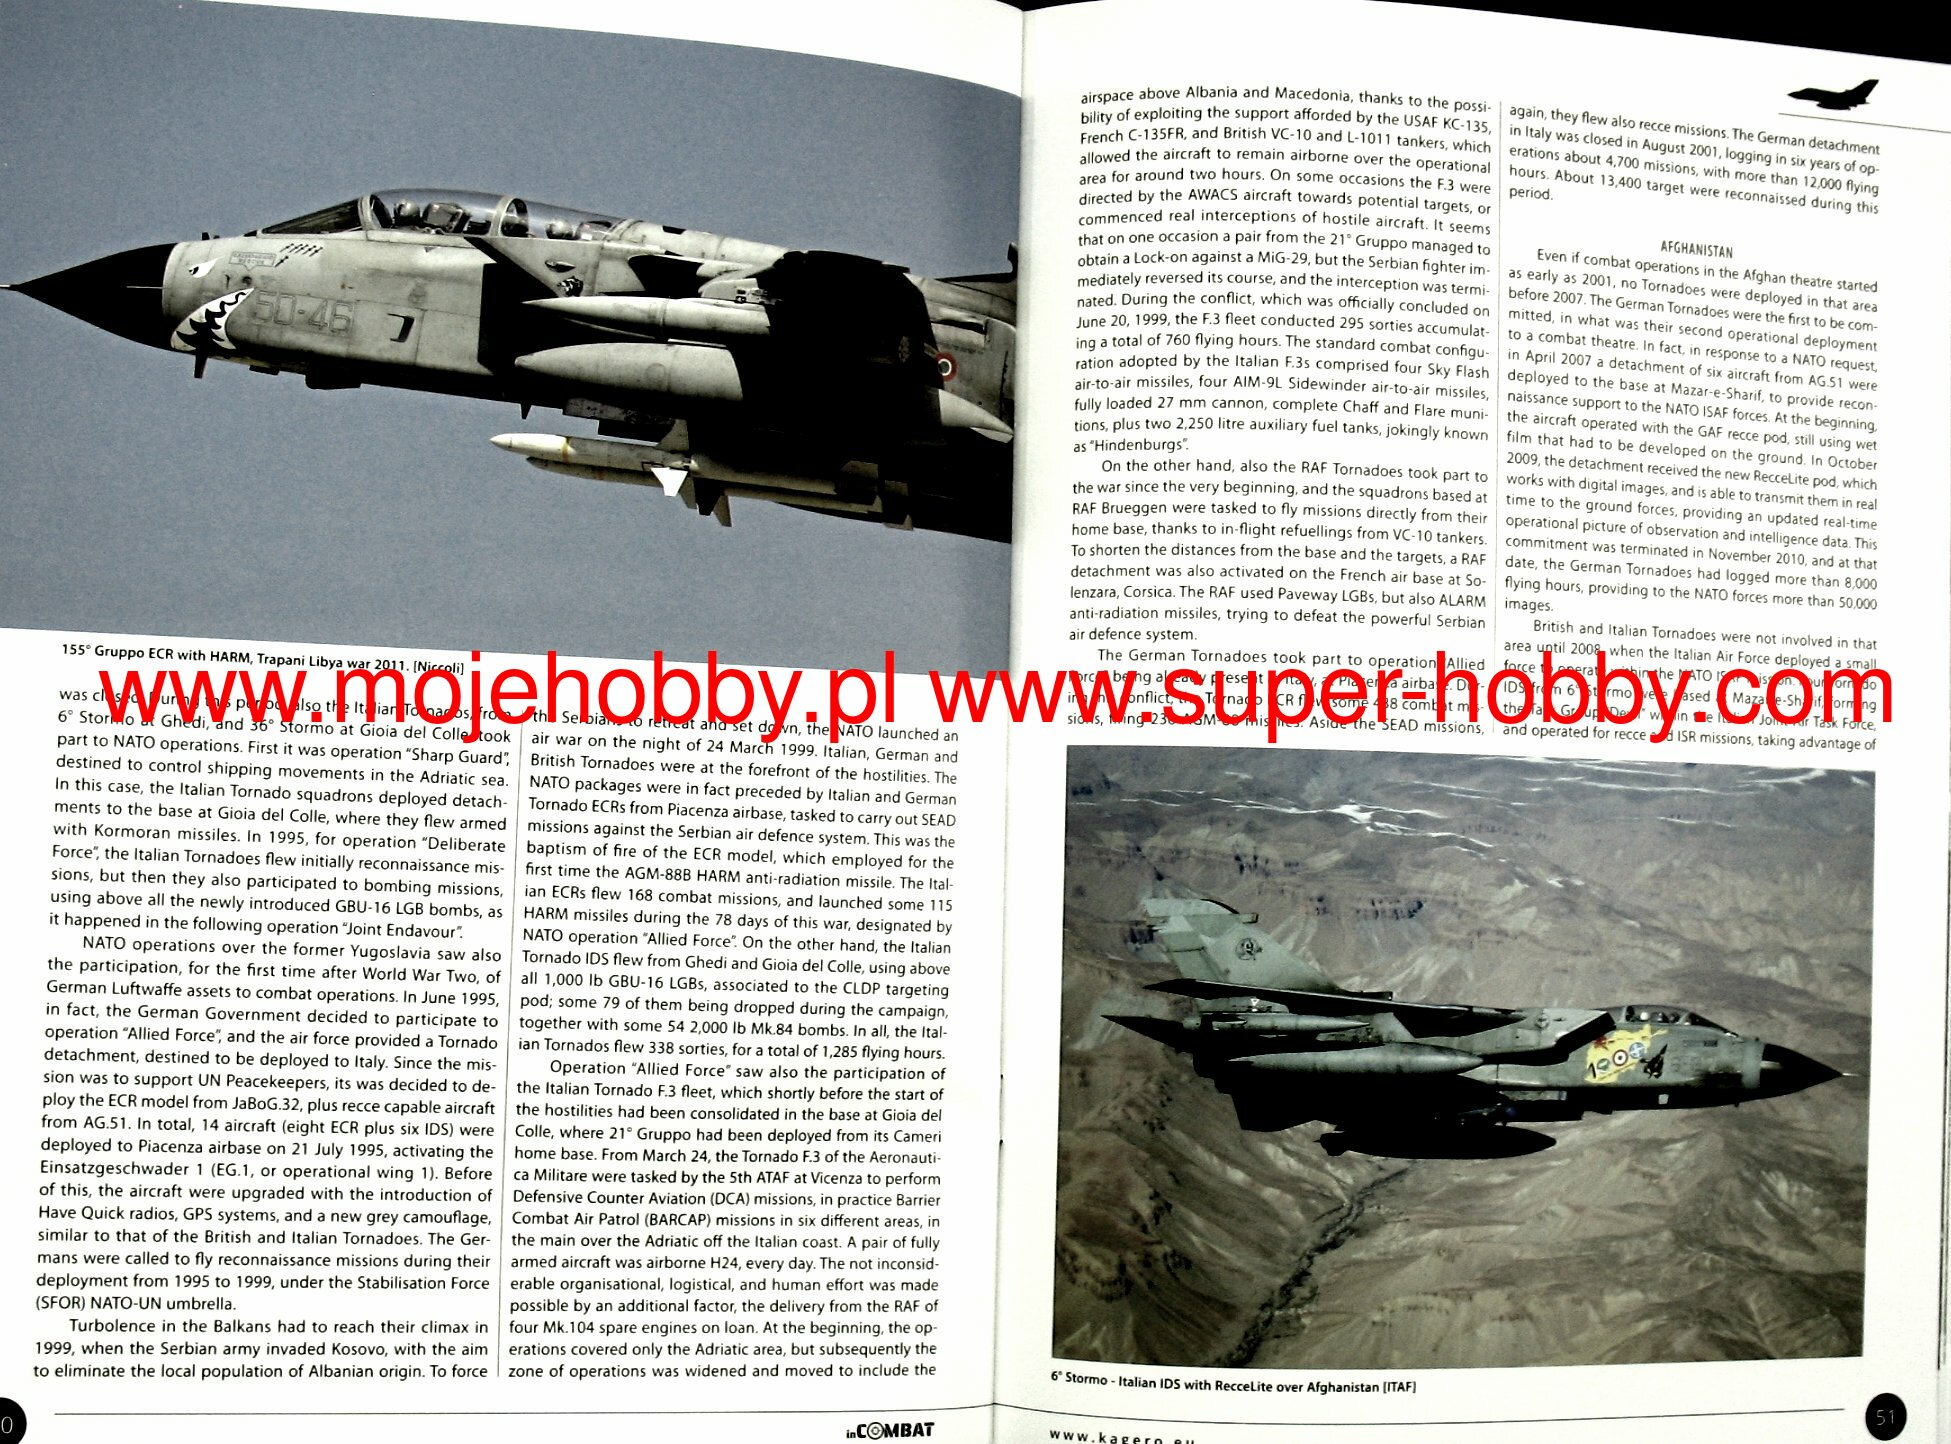Tornado: (2, 188, 1019, 545), (1098, 896, 1871, 1159)
